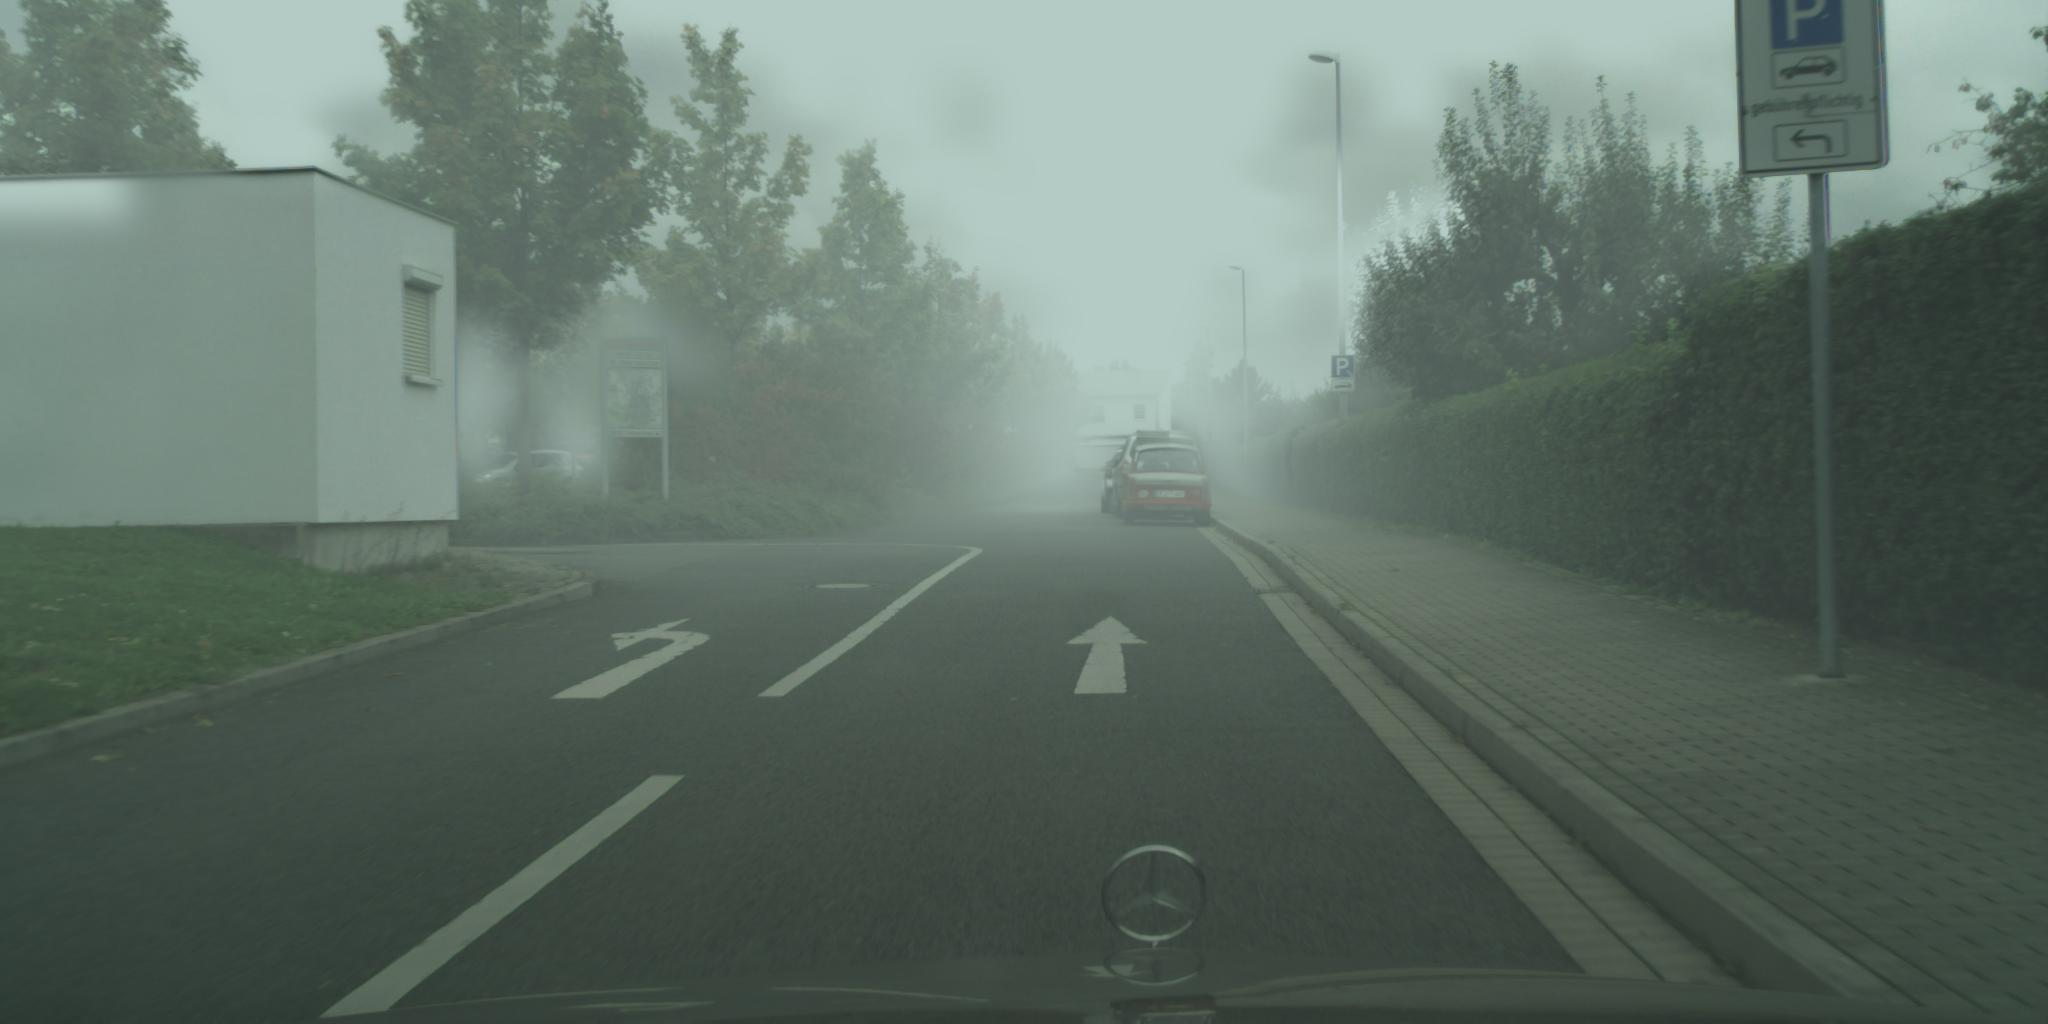car: (1112, 431, 1208, 521), (1125, 444, 1213, 528), (1100, 449, 1138, 516), (1108, 445, 1128, 468)
